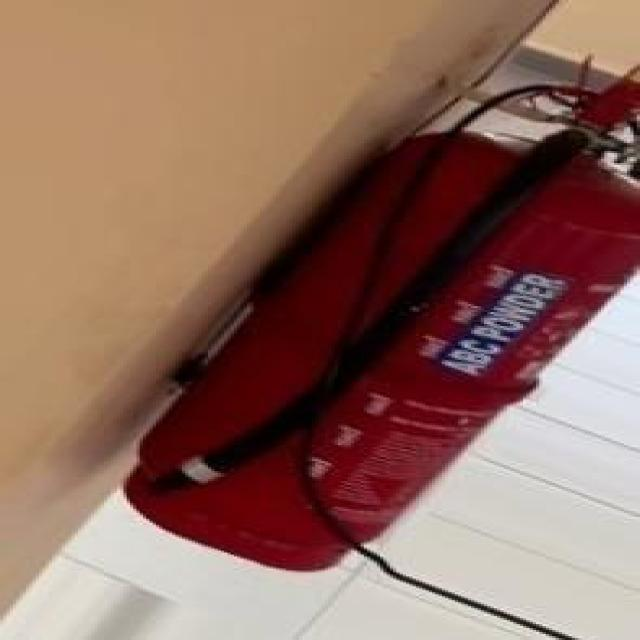fire_extinguisher: (110, 66, 637, 574)
